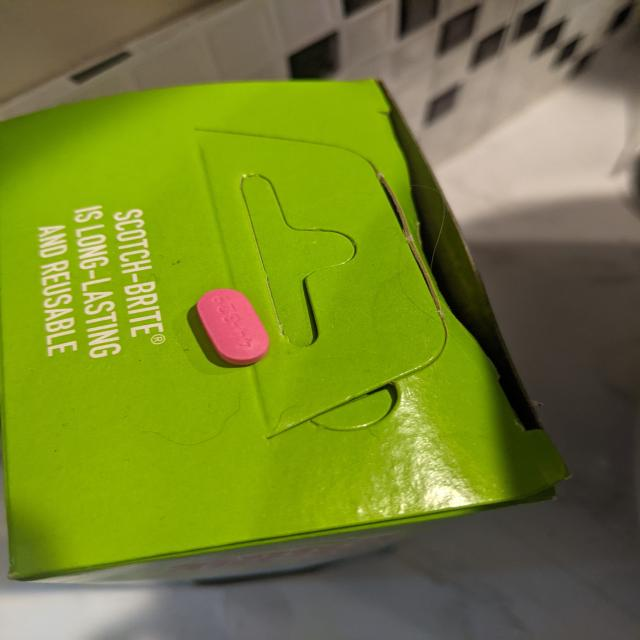non-organic waste: (194, 288, 270, 366)
